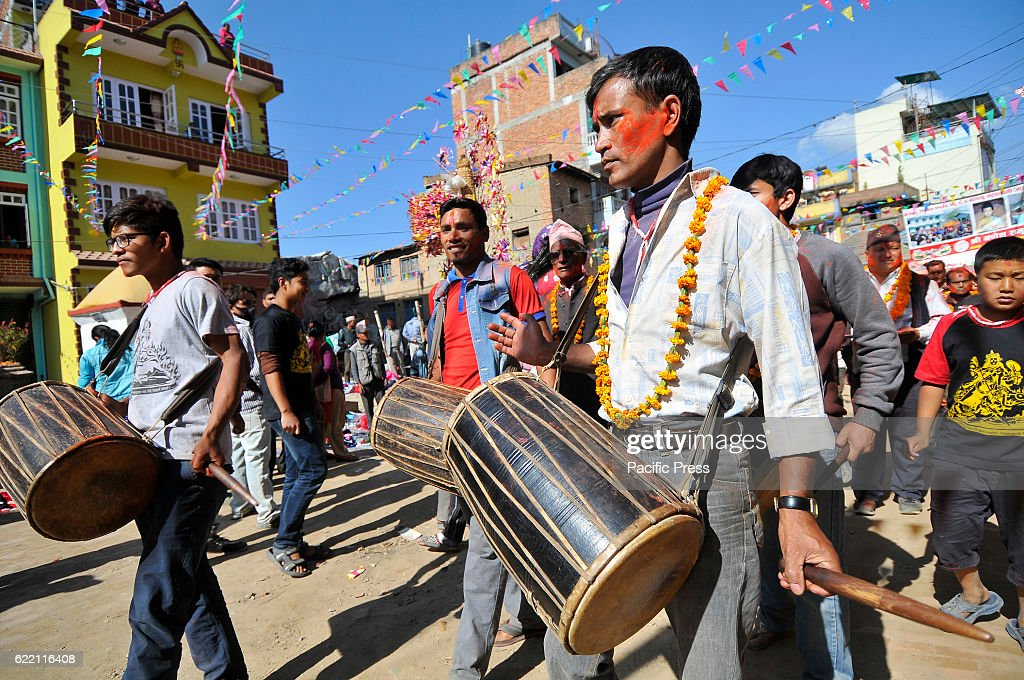human: (481, 36, 863, 680), (97, 183, 273, 680), (415, 195, 560, 680), (895, 232, 1024, 663), (259, 254, 333, 591)
